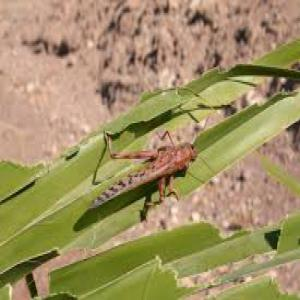locust: (86, 93, 221, 235)
